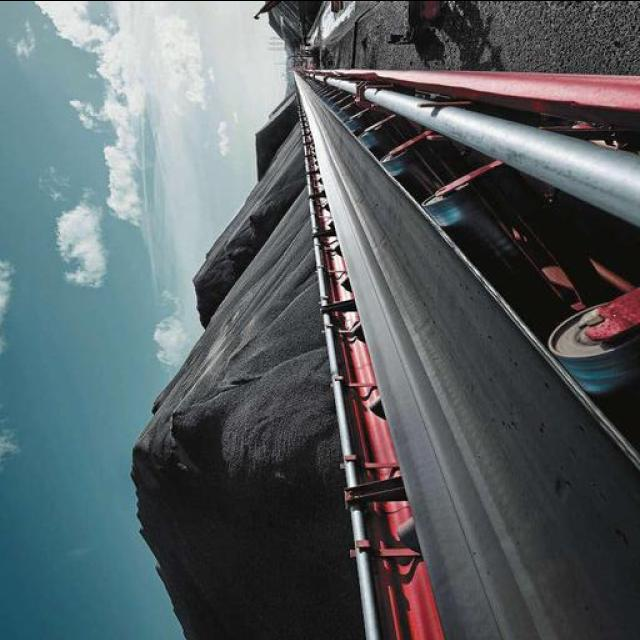conveyor: (296, 69, 640, 640)
